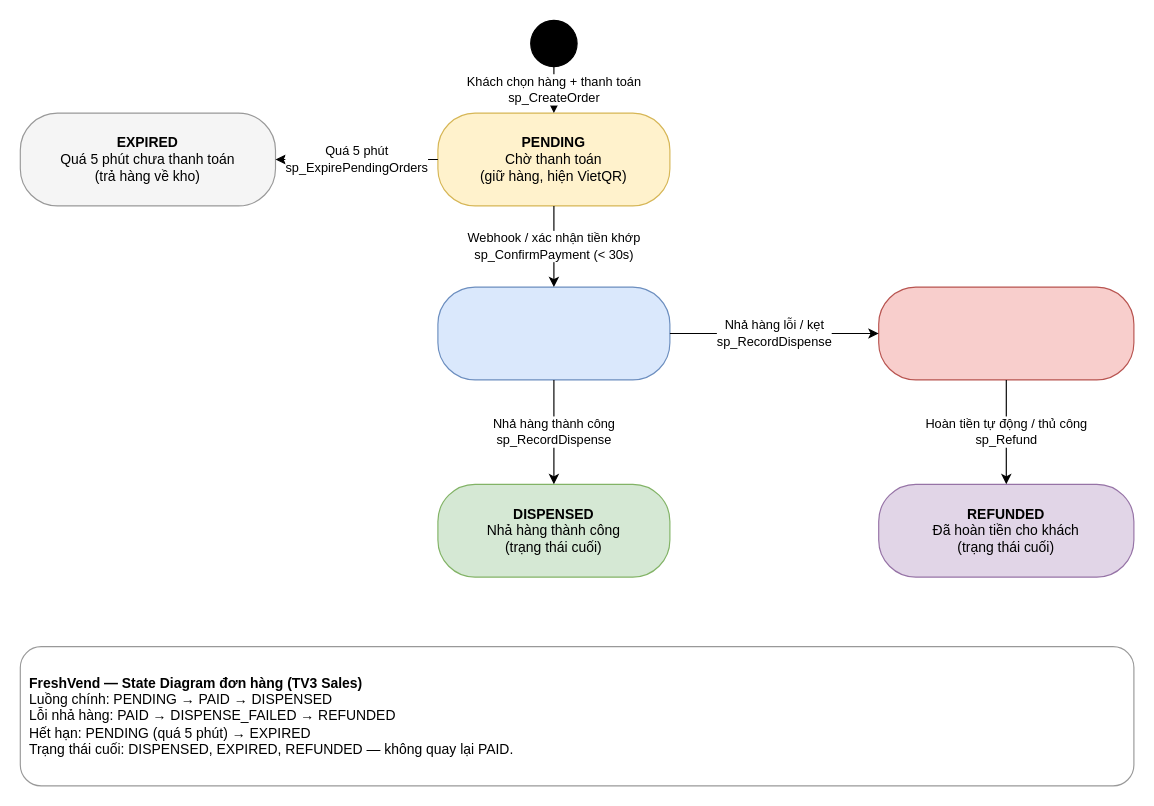
Some shapes in this 1154 by 806 pixel diagram are drawn without their labels. The centre of each missing label's shape, as x and y in pixels:
DISPENSE_FAILED Kẹt / nhả hàng thất bại: the point at 1006,333
PAID Đã nhận đủ tiền (chờ máy nhả hàng): the point at 553,333
